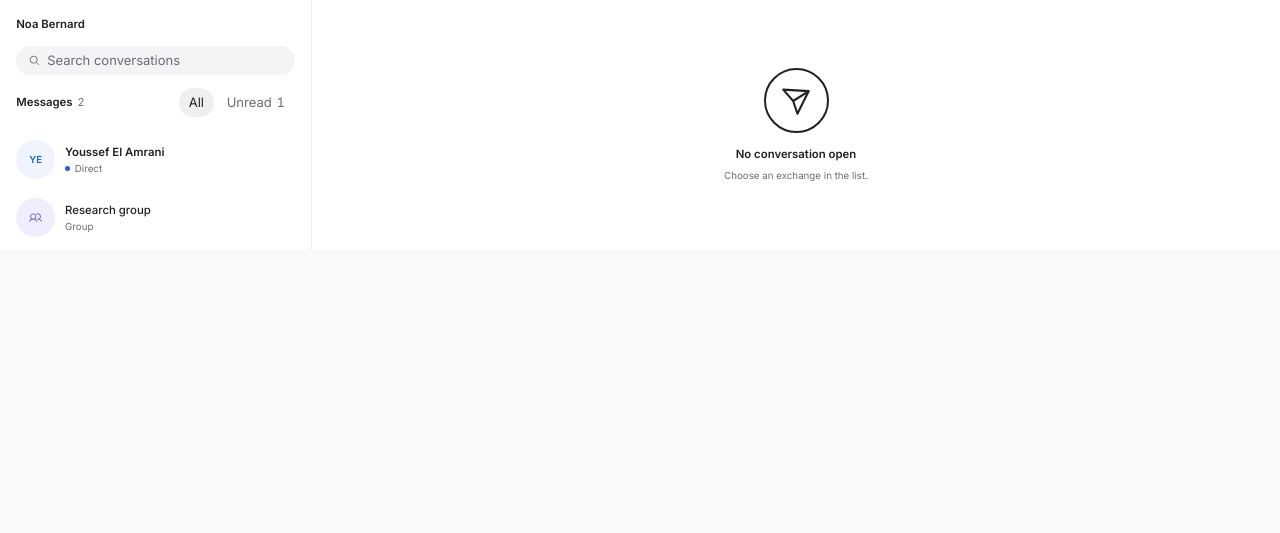
Test: messages page › retains a failed message for retry and clears it only after a successful send
The image size is (1280, 533).
Click the link "YE Youssef El Amrani Direct" at (90, 159), box [16,140,164,179]
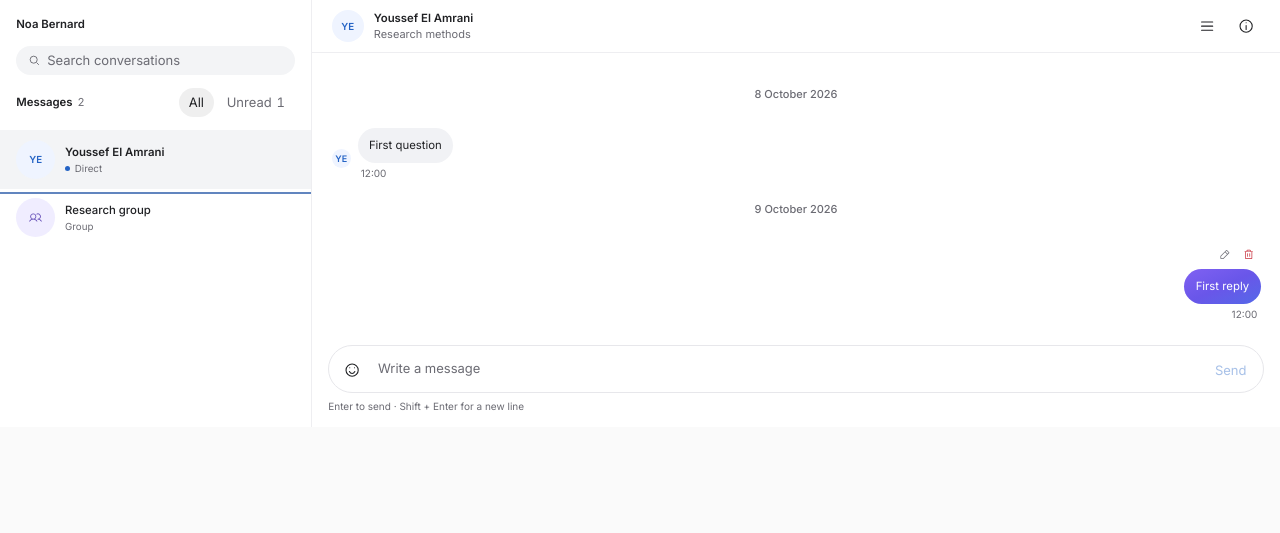
Type "Review the methods" into the text box labelled "message" at (787, 369), box [372,351,1202,387]
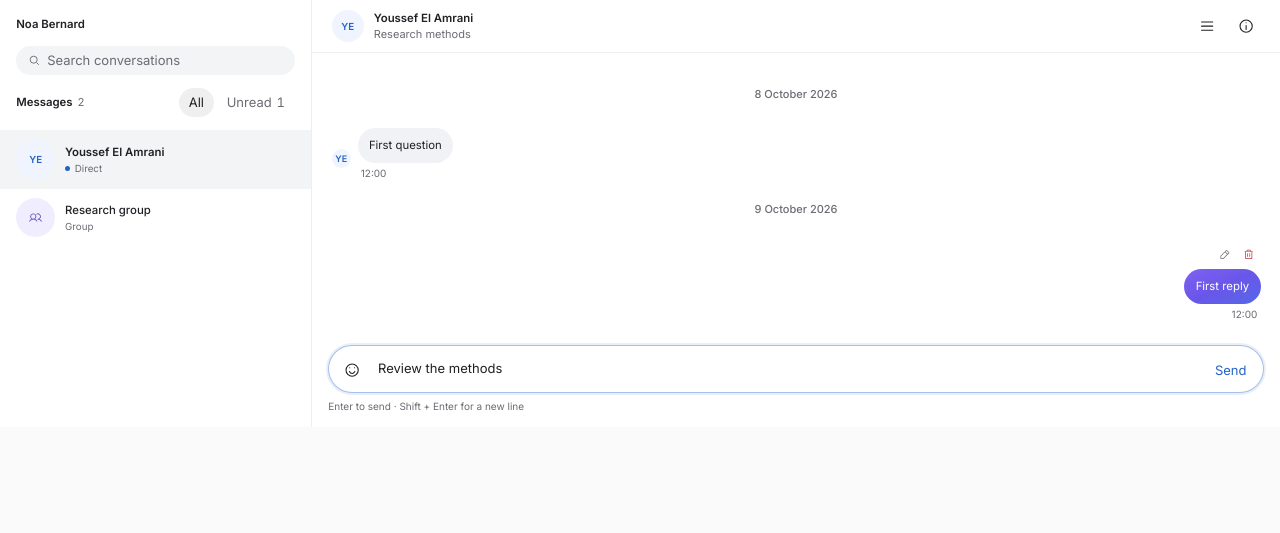
Type keys "{Shift>}{Enter}{/Shift}"
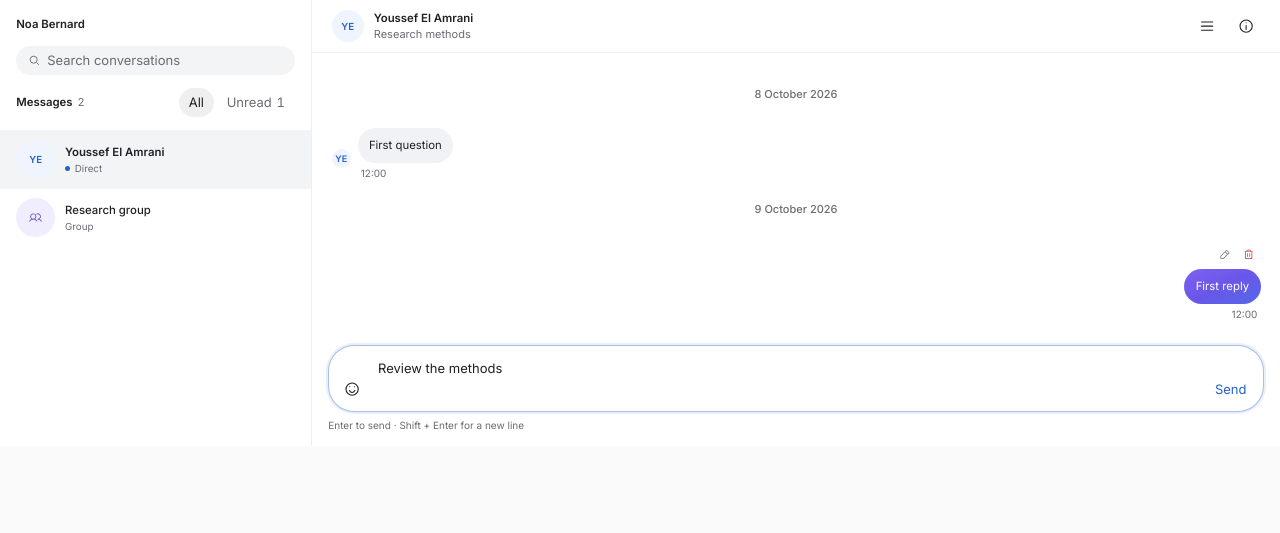
Click the button "Send" at (1231, 390), box [1208,373,1253,406]
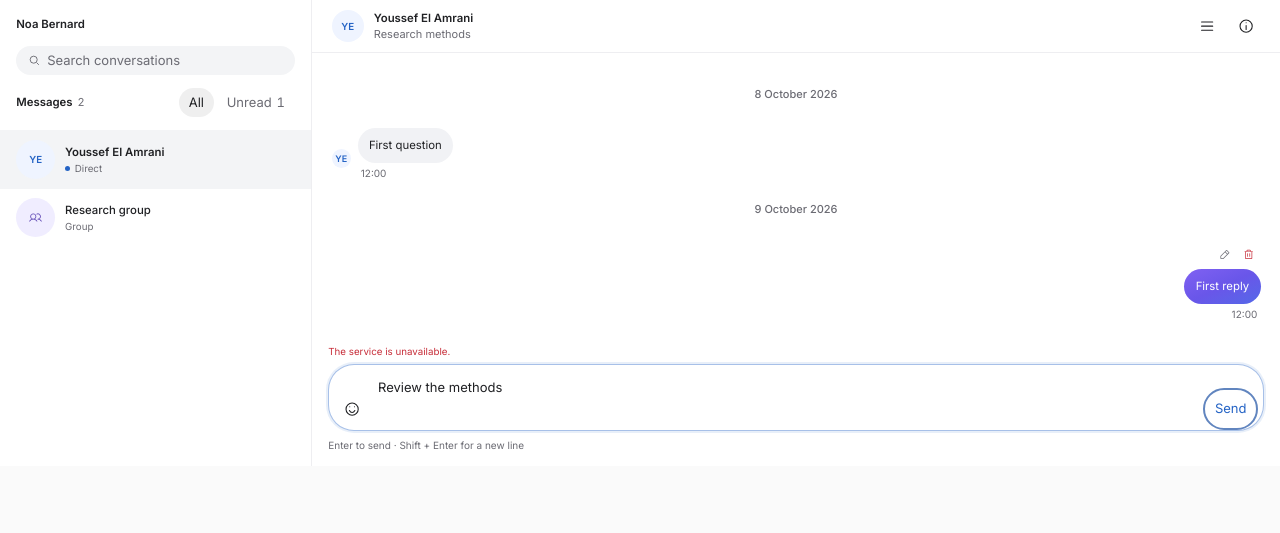
Now the message "The service is unavailable." is shown, box [328,346,450,357]
Click the button "Send" at (1231, 409), box [1208,393,1253,425]
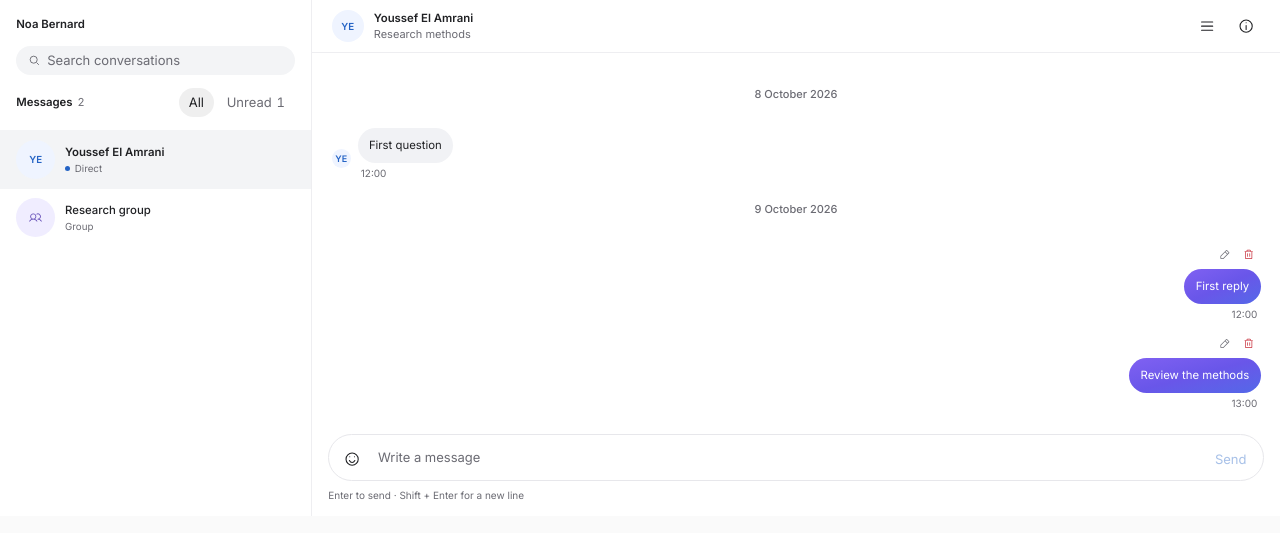
Now the text box labelled "message" is empty, box [372,440,1202,476]
Now the text "Review the methods" is shown, box [1140,366,1249,385]
